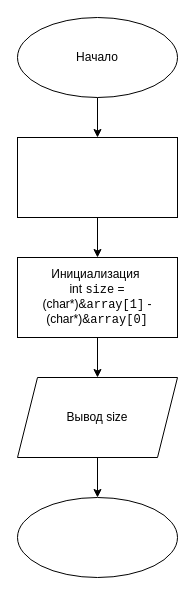
Some shapes in this 195 by 595 pixel diagram are drawn without their labels. Here are the shapes that lost their labels. From the top down, the centre of each, then its label:
At point 97,177: "Инициализация массива wchar_t array[2] = { L'Я', L'Щ' }".
At point 97,537: "Конец".
